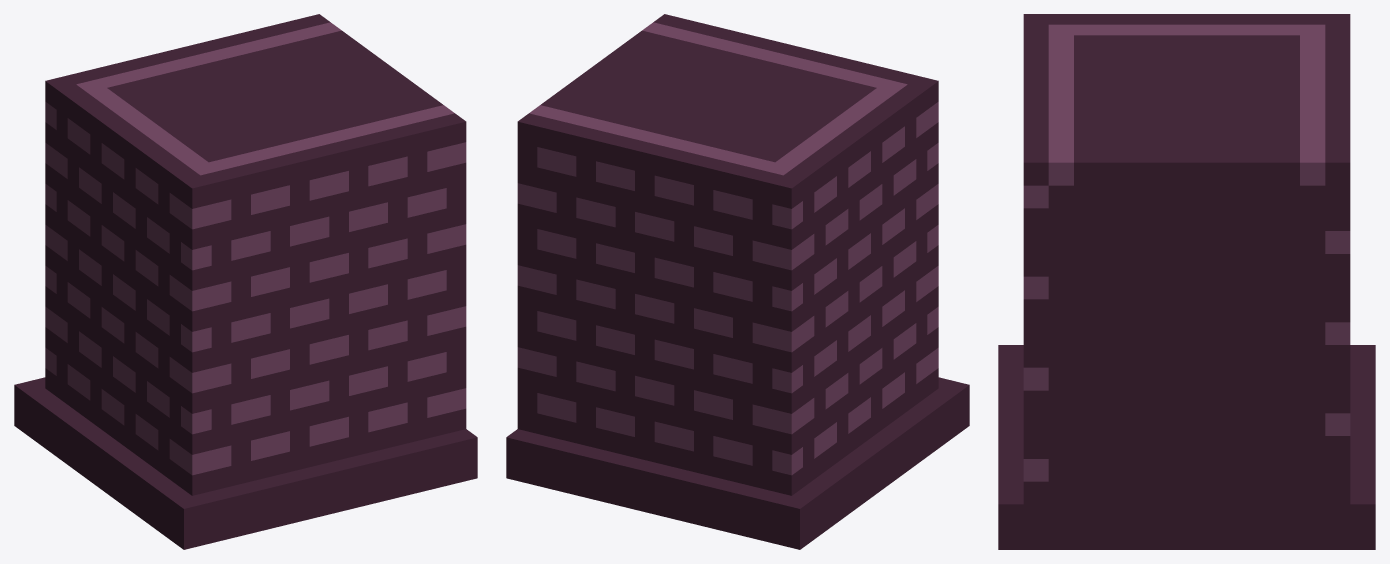
Rendered from dungeon_c_a_inner_wall_ending.obj.
3 renders of one model, left to right at view 1: azimuth 30°, elevation 25°; view 2: azimuth 150°, elevation 25°; view 3: azimuth 270°, elevation 25°, orthographic. The views are drawn at different scales.
Size of the model in its own units: 1.5 by 1.7 by 1.5.
Materials: 1 (1 with a texture image).
